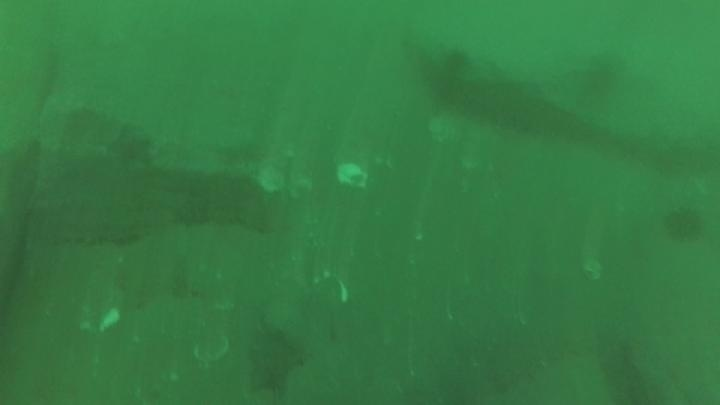echinus: (661, 204, 707, 245), (438, 46, 473, 79)
holothurian: (46, 210, 142, 249)
starfish: (243, 320, 308, 399)
